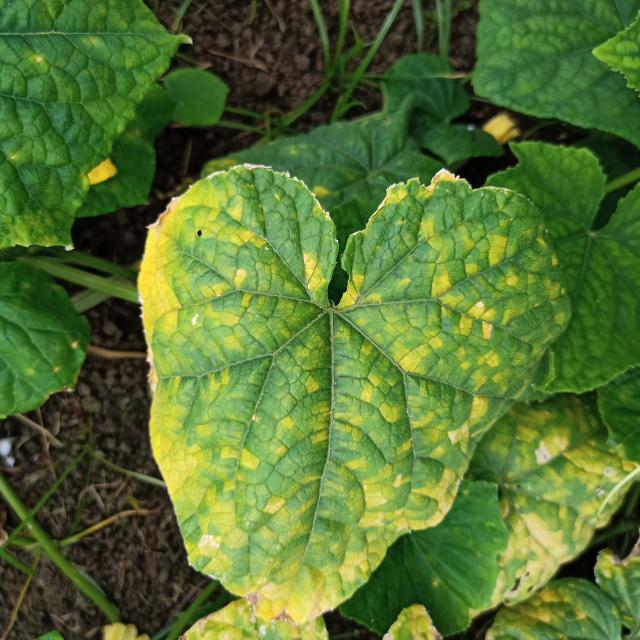disease_cucumber: (121, 163, 554, 617)
